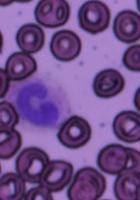N: (8, 74, 72, 130)
